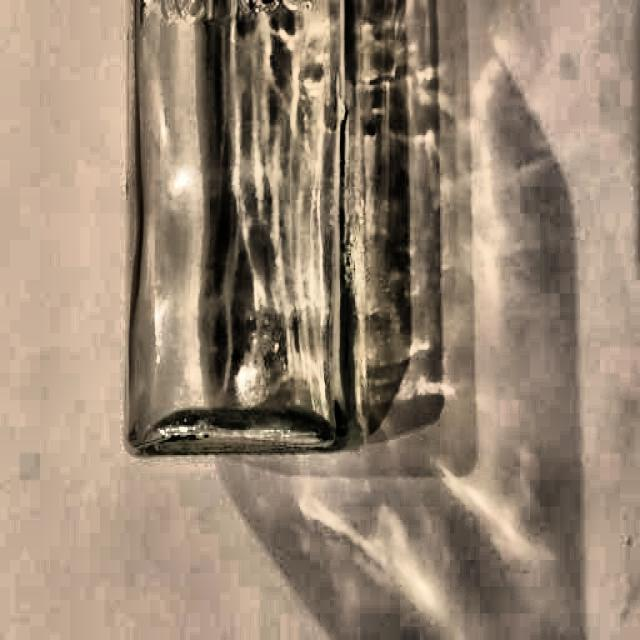glass: (123, 0, 371, 454)
